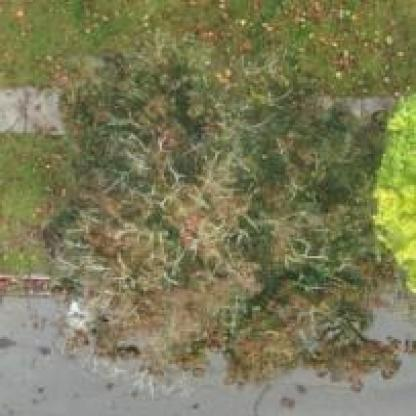Coniferous Tree: (33, 42, 400, 397)
Deciduous Tree: (356, 75, 416, 294)
